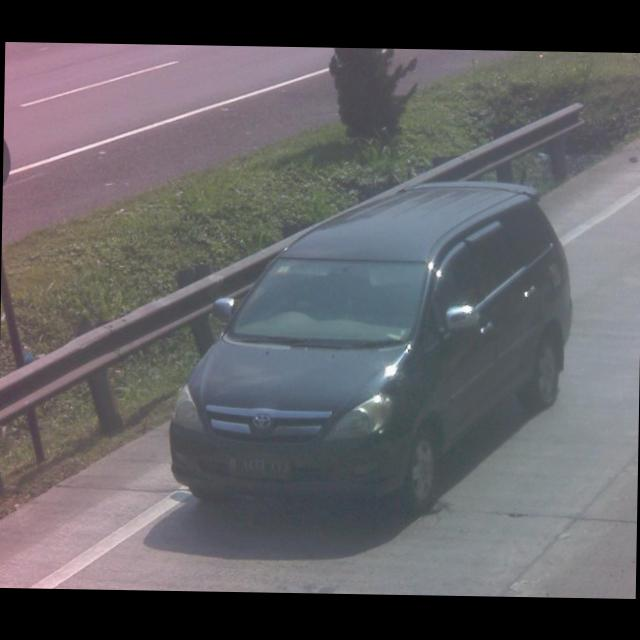plate: (221, 454, 294, 482)
